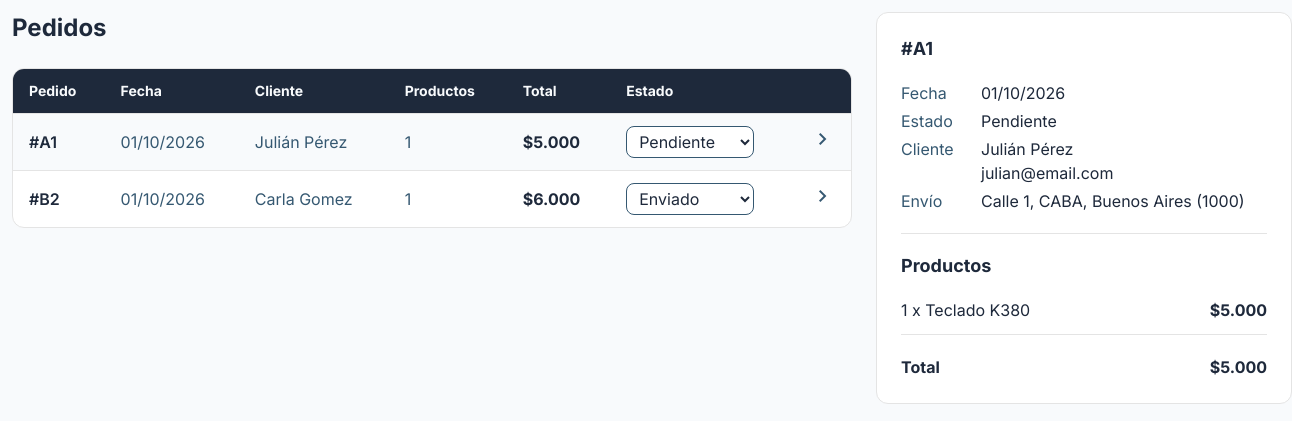
AdminOrdersPage › en desktop cambia el detalle al seleccionar otro pedido
Expected: the heading "#A1" is shown, [901,38,933,59]
Click the button named "Ver pedido #B2".
click(44, 199)  # box [29,187,60,211]
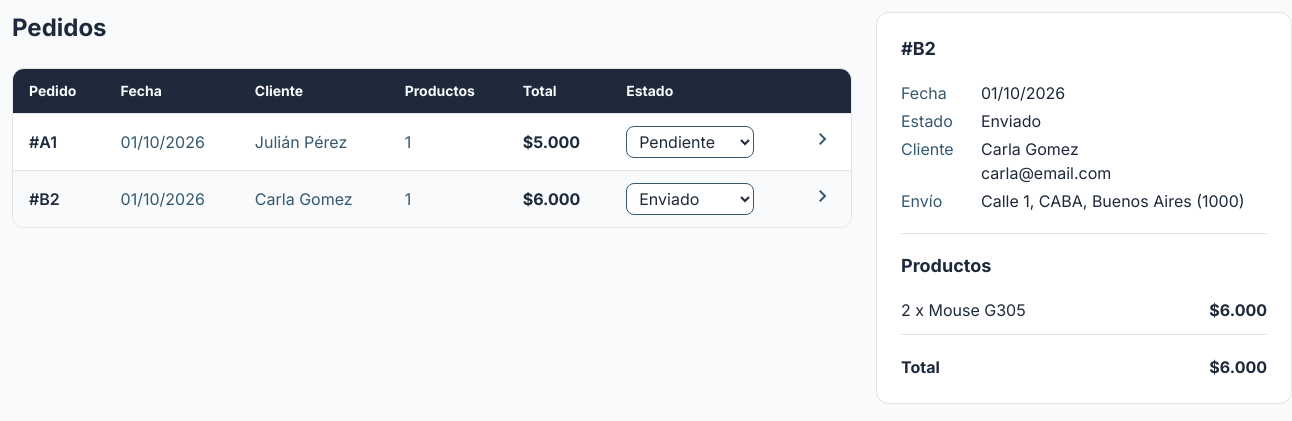
Expected: the heading "#B2" is shown, [901,38,936,59]
Expected: the text "2 x Mouse G305" is shown, [901,298,1026,322]
